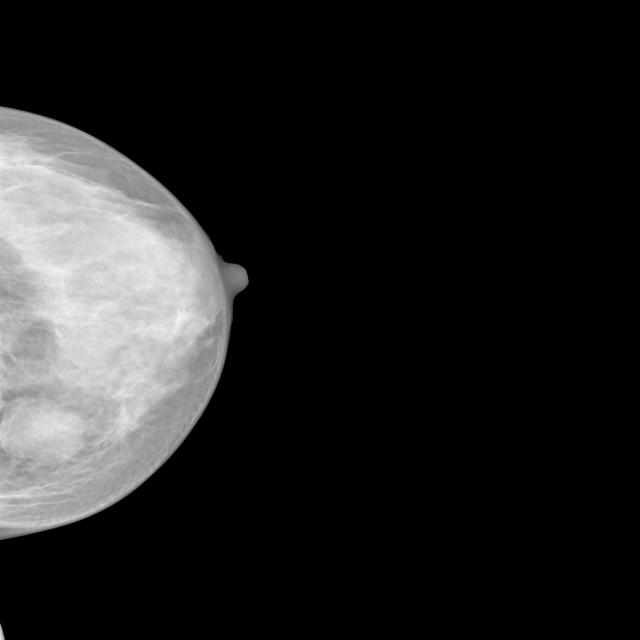Mass_1: (0, 377, 104, 485)
